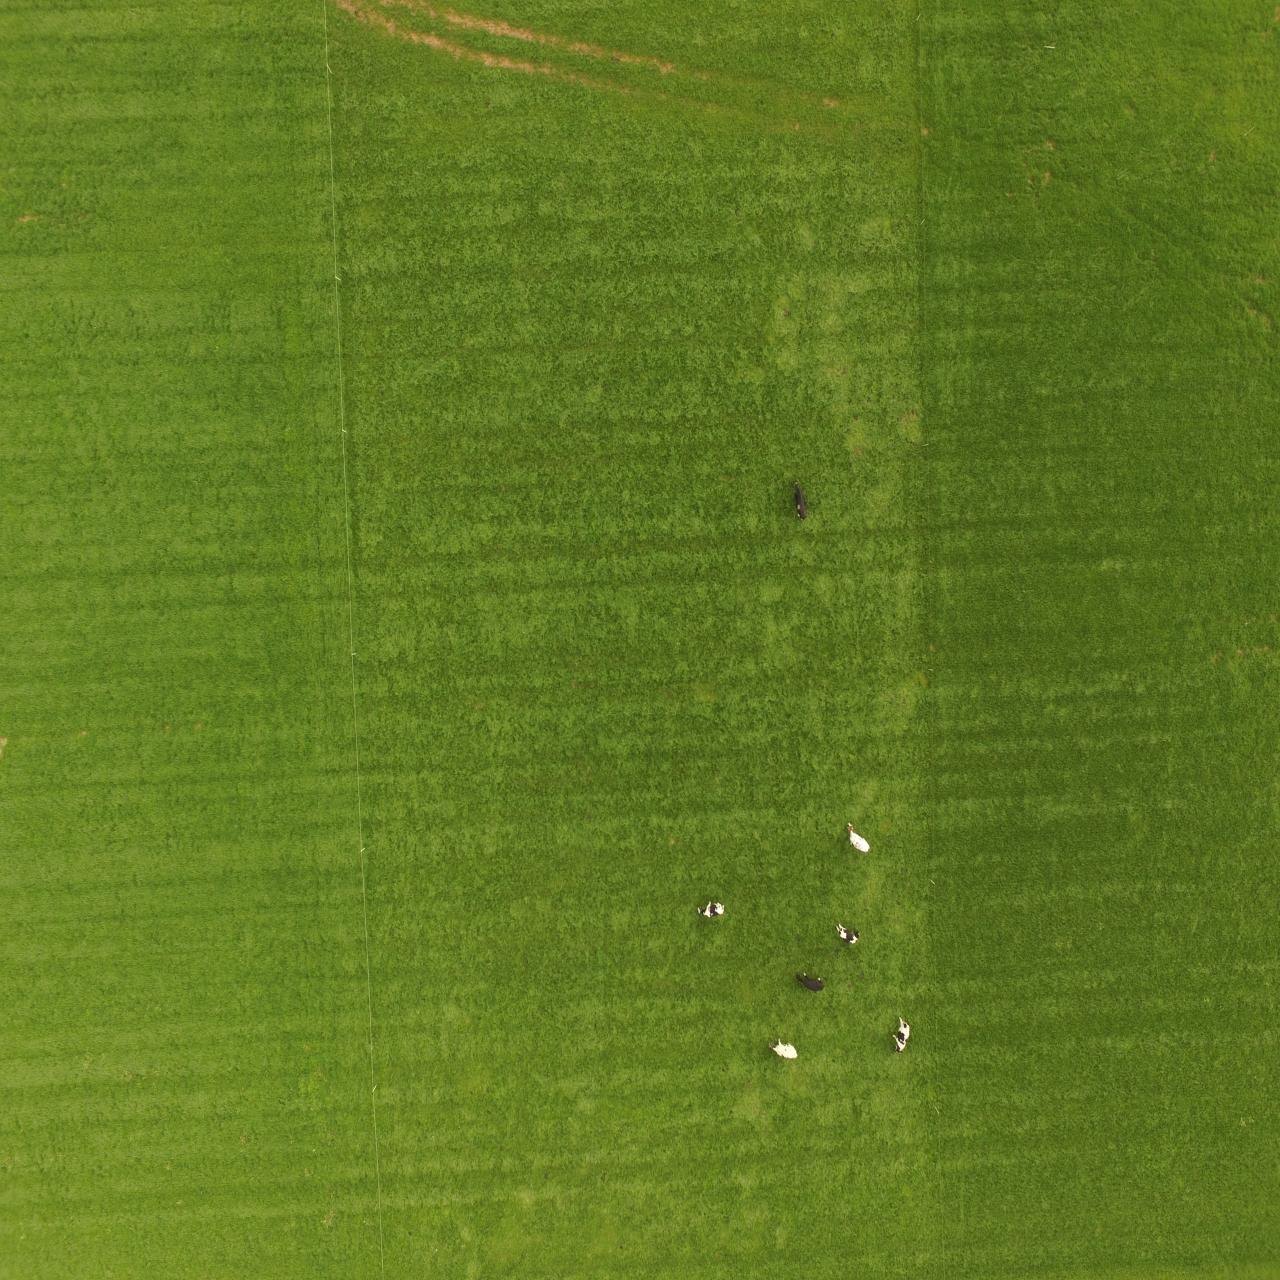cow: (843, 817, 874, 856), (888, 1014, 911, 1061), (790, 481, 812, 527), (769, 1036, 804, 1061), (694, 898, 729, 920), (831, 919, 860, 944), (795, 973, 829, 994)
